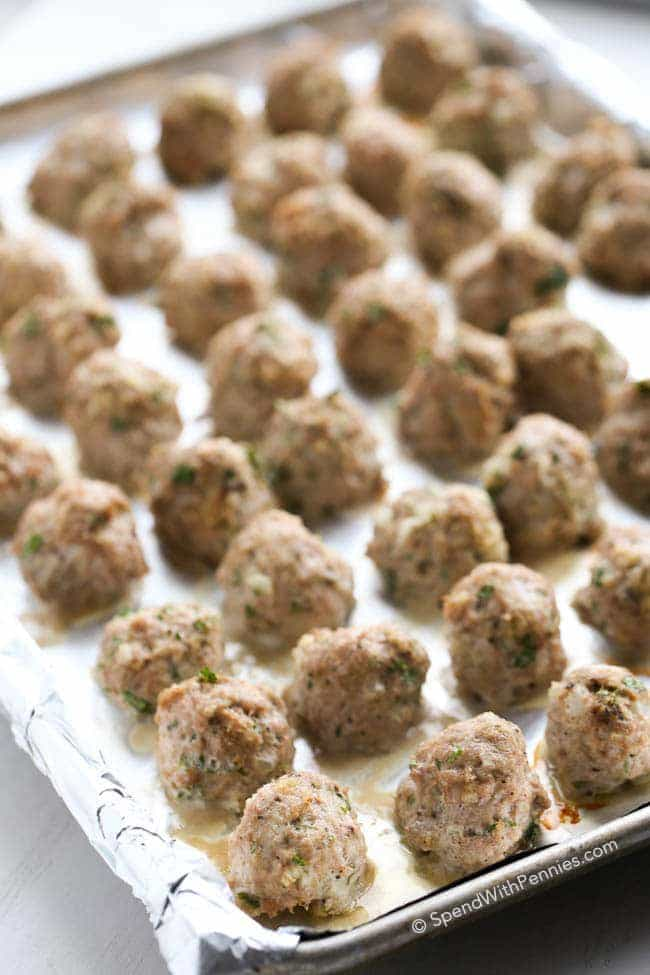meatballs: (395, 725, 545, 841), (240, 776, 368, 908), (155, 674, 283, 806), (292, 624, 420, 756), (441, 569, 569, 701), (22, 498, 135, 622), (155, 446, 268, 570), (542, 680, 650, 789), (109, 602, 214, 713), (226, 528, 331, 639), (387, 489, 492, 600), (494, 426, 599, 537), (265, 408, 372, 516), (403, 348, 510, 456), (583, 548, 650, 647)
